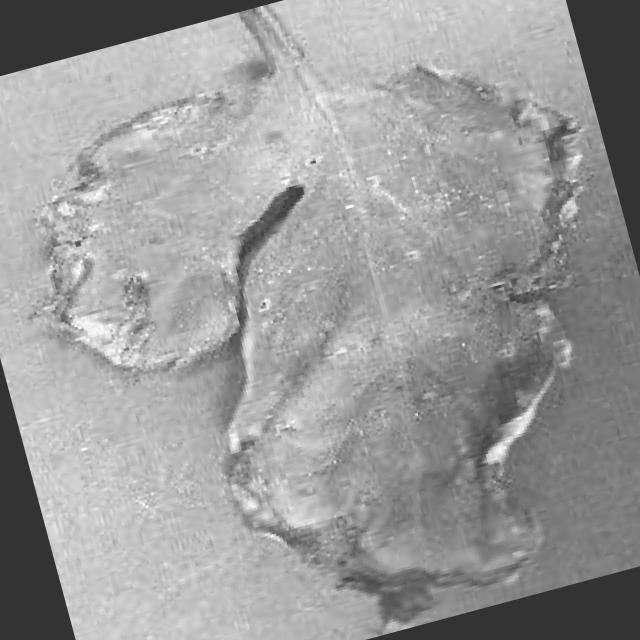bacterial spot: (35, 6, 579, 638)
